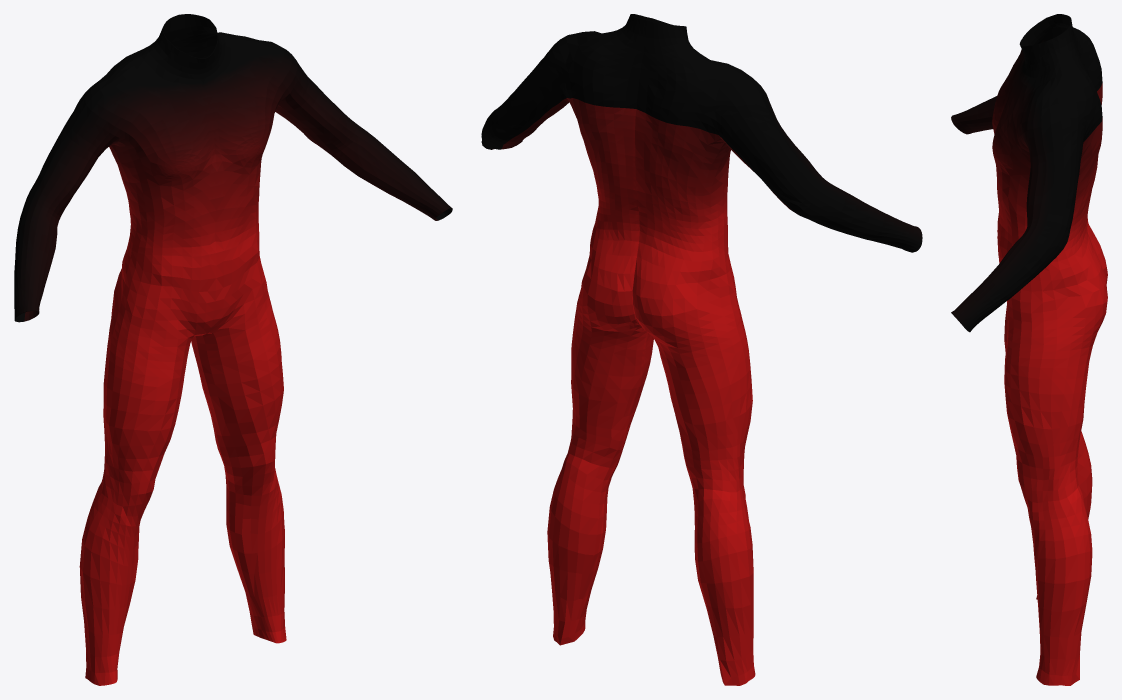
The model's file is mhw_culturalibre_hero_suit_1.glb.
3 renders of one model, left to right at view 1: azimuth 30°, elevation 25°; view 2: azimuth 150°, elevation 25°; view 3: azimuth 270°, elevation 25°, orthographic. The views are drawn at different scales.
Parts seen in each view (by area): view 1: mhw_culturalibre_hero_suit_1; view 2: mhw_culturalibre_hero_suit_1; view 3: mhw_culturalibre_hero_suit_1.
Part boxes in pixels (box(x1,y1,x2,y2)): mhw_culturalibre_hero_suit_1: box(14, 14, 452, 685); mhw_culturalibre_hero_suit_1: box(481, 14, 922, 685); mhw_culturalibre_hero_suit_1: box(951, 14, 1107, 685).
Size of the model in its own units: 1.1 by 1.54 by 0.3522.
Materials: 1 (1 with a texture image).
